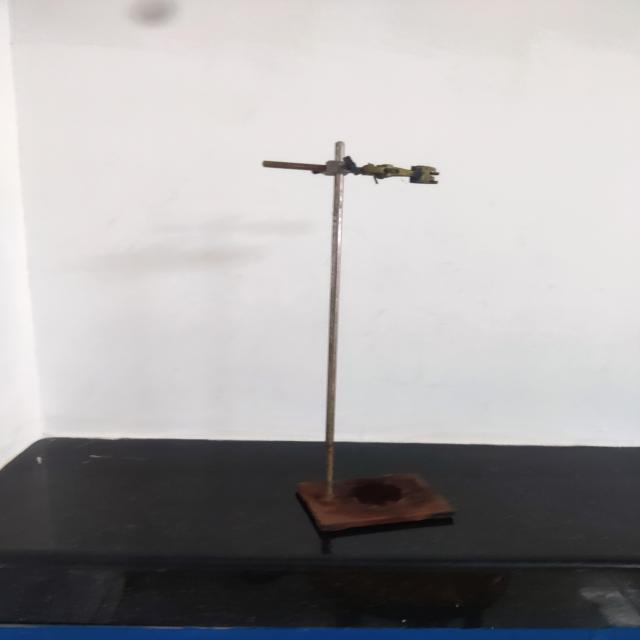Burette_Stands: (223, 126, 494, 553)
